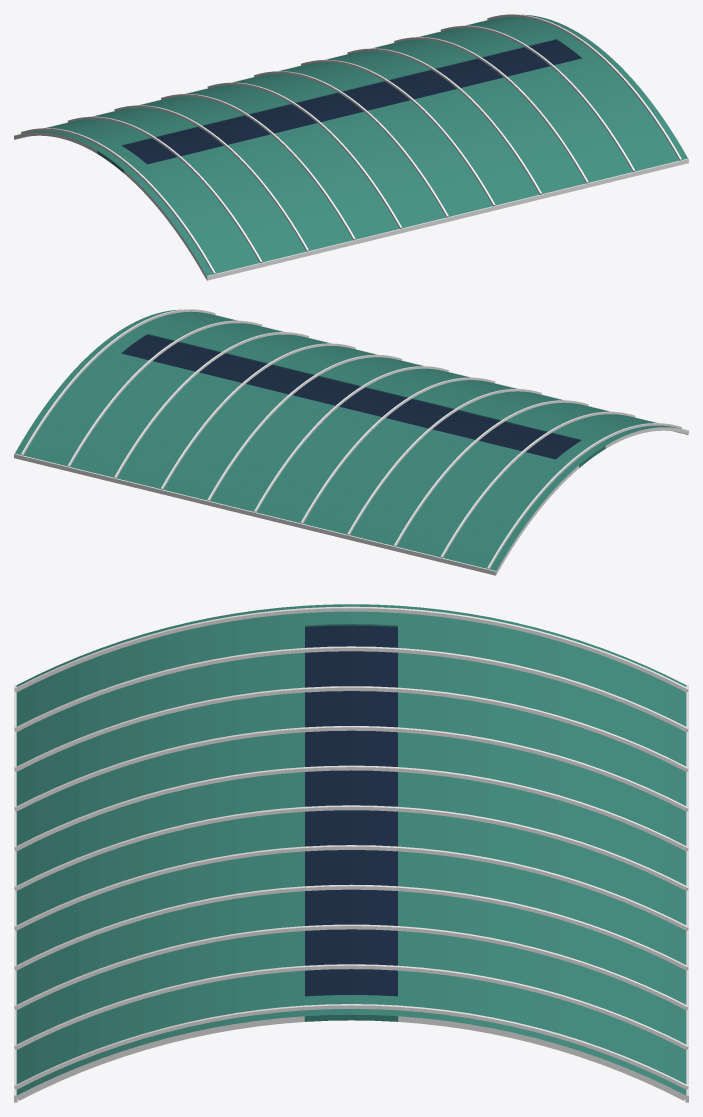
File: SM_Gym_Roof.fbx
The picture shows the model from 3 angles, top to bottom: view 1: azimuth 30°, elevation 25°; view 2: azimuth 150°, elevation 25°; view 3: azimuth 270°, elevation 25°; orthographic projection. The views are drawn at different scales.
Parts seen in each view (by area): view 1: SM_Gym_Roof; view 2: SM_Gym_Roof; view 3: SM_Gym_Roof.
Part boxes in pixels (left/top/right/bottom): SM_Gym_Roof: left=14, top=14, right=688, bottom=280; SM_Gym_Roof: left=14, top=309, right=688, bottom=575; SM_Gym_Roof: left=14, top=604, right=688, bottom=1102.
Size of the model in its own units: 62 by 6.44 by 43.08.
